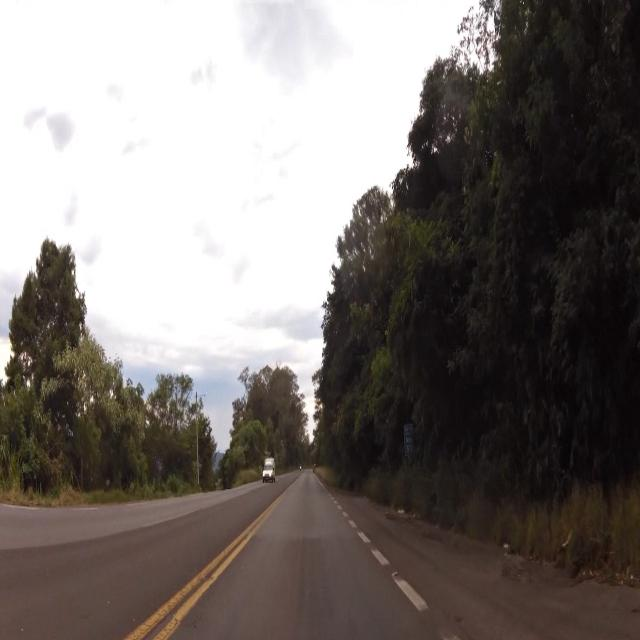RQ: (405, 421, 415, 460)
